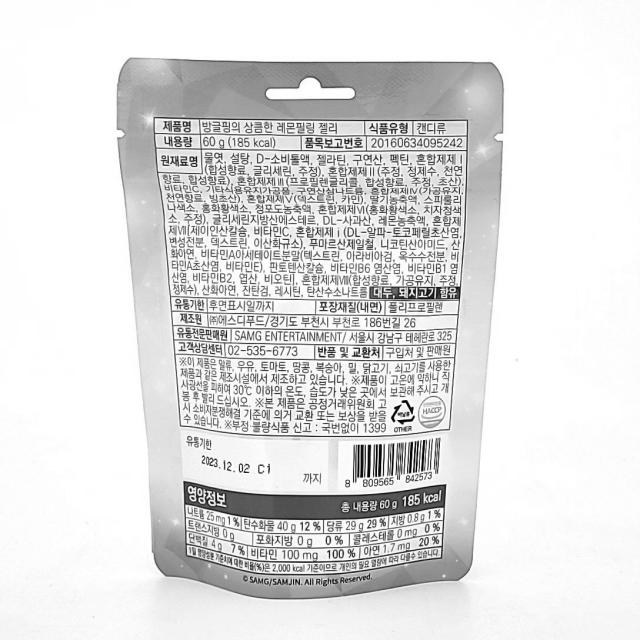Nutrition Label: (166, 480, 451, 580)
